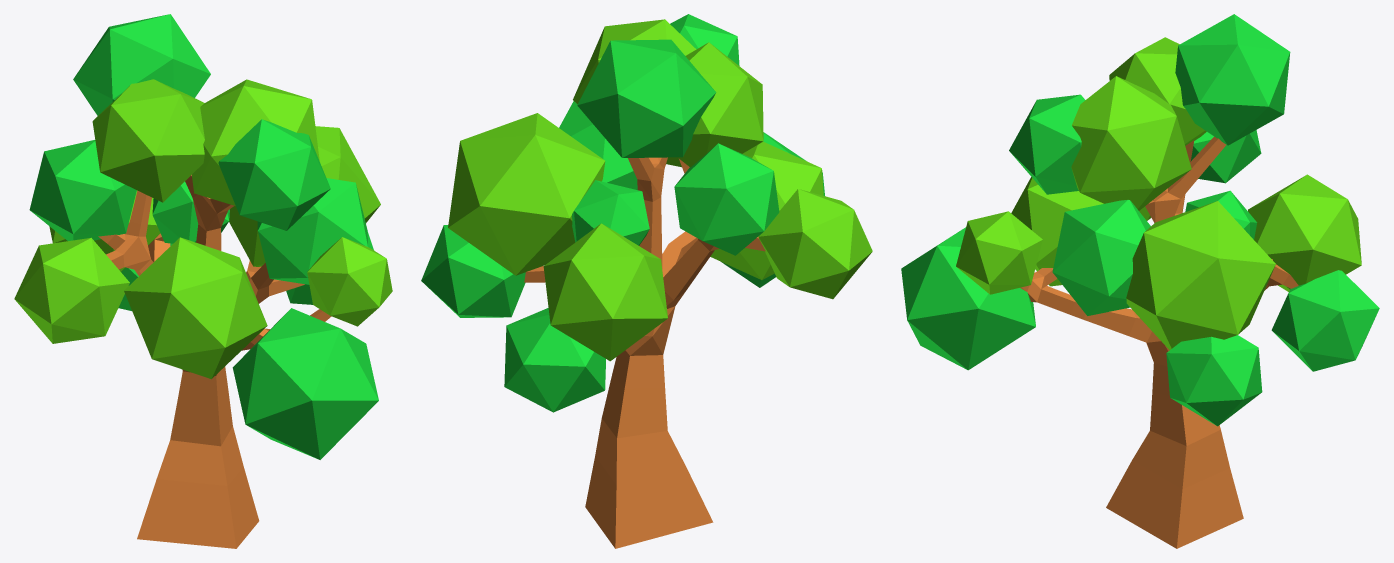
The model's file is arvore.glb.
The picture shows the model from 3 angles, left to right: view 1: azimuth 30°, elevation 25°; view 2: azimuth 150°, elevation 25°; view 3: azimuth 270°, elevation 25°; orthographic projection. The views are drawn at different scales.
Visible parts, largest first — view 1: Arvore; view 2: Arvore; view 3: Arvore.
Boxes of the visible parts, x1,y1,x2,y2 form: Arvore: (14,14,392,548); Arvore: (421,14,872,548); Arvore: (901,14,1379,548).
Bounding box in the file's own units: 0.9847 × 1.24 × 1.12.
